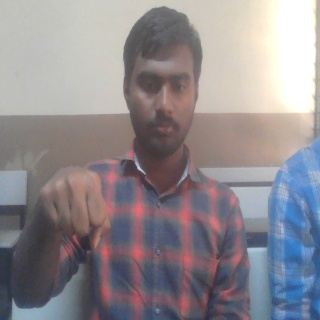Face: (123, 7, 203, 159)
Yes: (34, 167, 113, 254)
